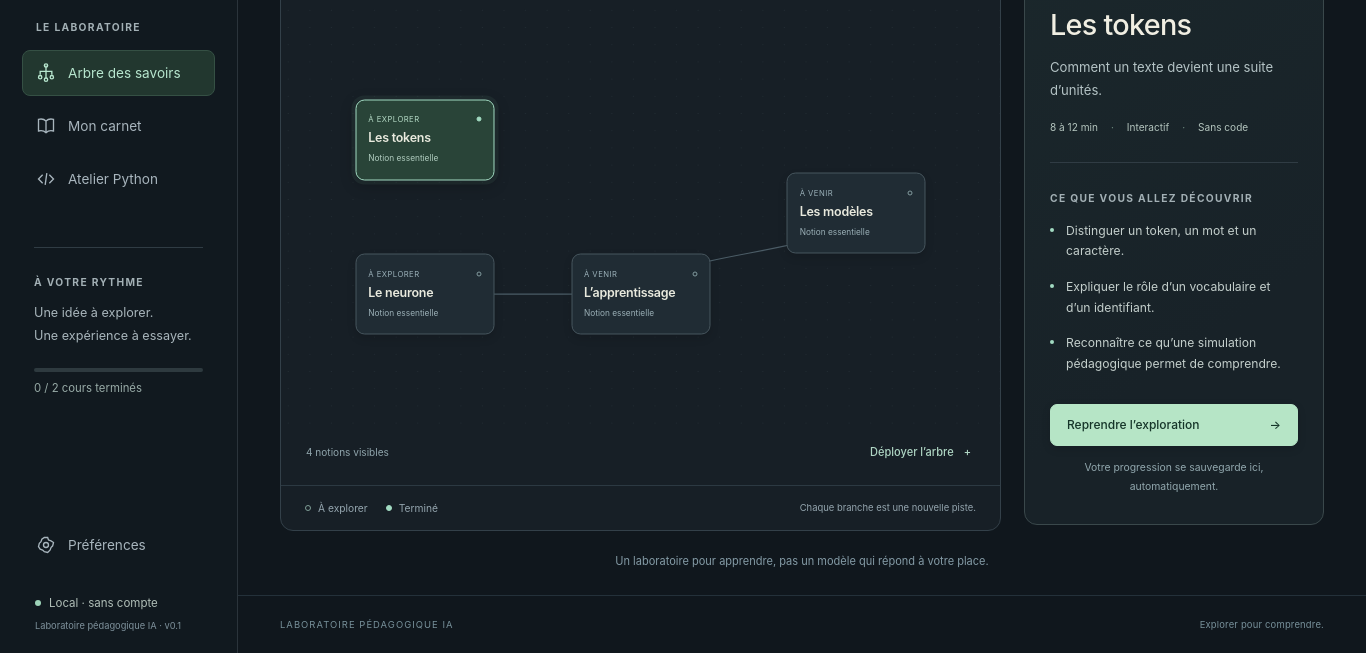
Test: réussit une évaluation préparée après exercice et sauvegarde la réussite
(page scrolled)
Click the button "Reprendre l’exploration →" at [1174, 426], box x1=1050 y1=404 x2=1298 y2=446
(page scrolled)
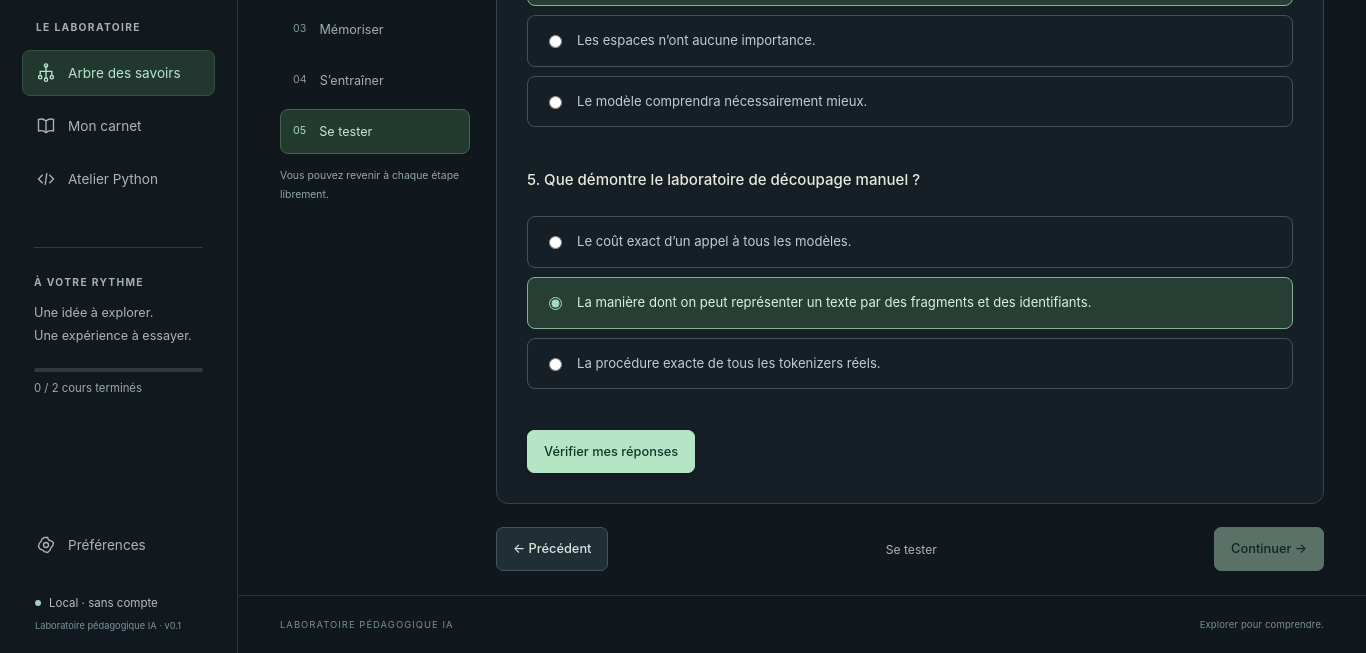
Click the button "Vérifier mes réponses" at [611, 452], box x1=527 y1=430 x2=695 y2=473
(page scrolled)
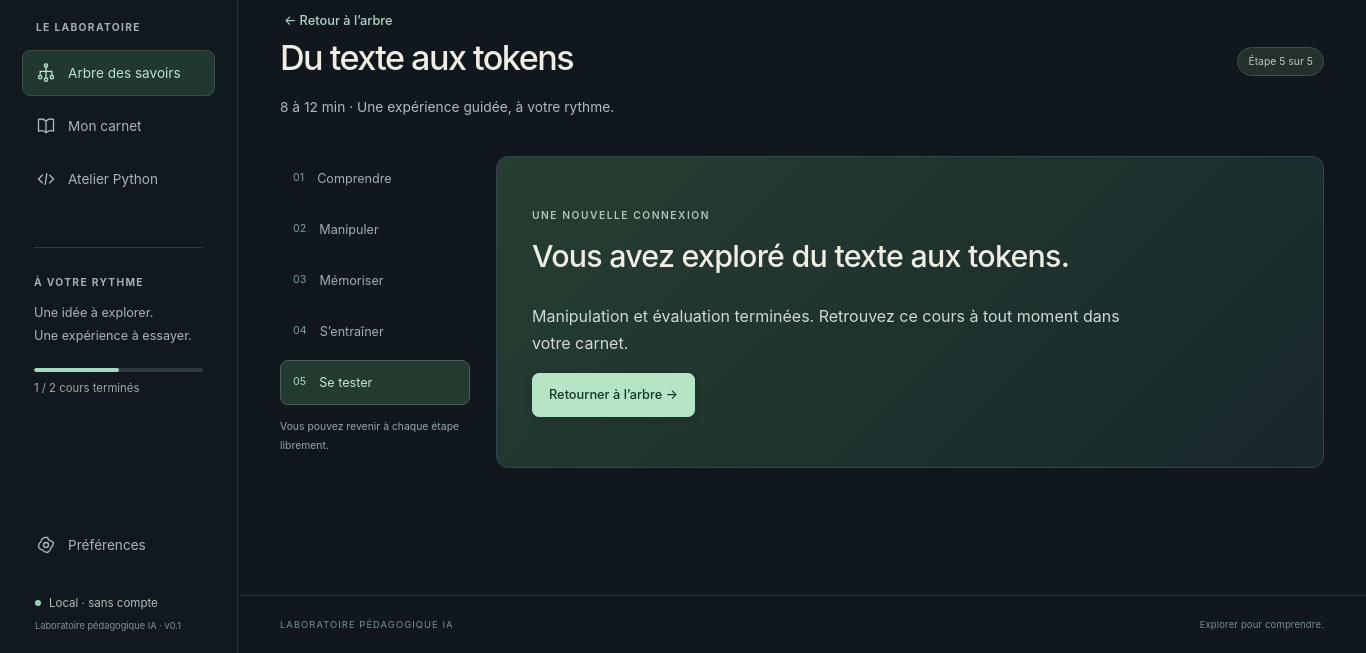
Expected: the text "UNE NOUVELLE CONNEXION" is shown, x1=532 y1=209 x2=710 y2=221
